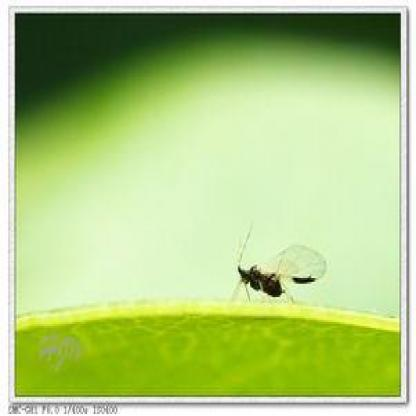aphid: (233, 228, 329, 312)
